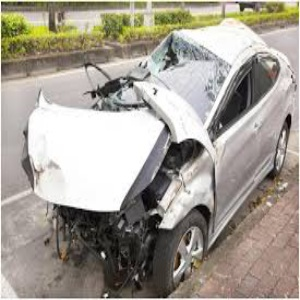bonnet: (26, 97, 153, 208)
bumper: (46, 212, 152, 290)
front_windshield_glass: (151, 37, 226, 97)
